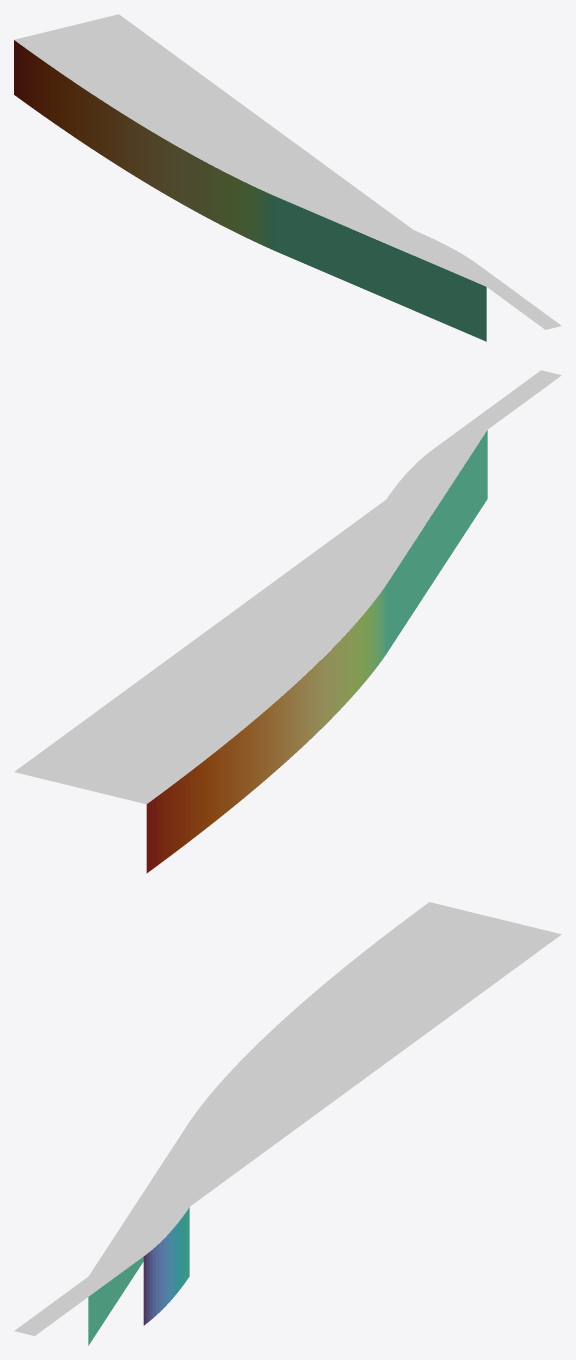
File: scramjet_n100_m14.glb
3 views of the same model, one above another, from view 1: azimuth 30°, elevation 25°; view 2: azimuth 150°, elevation 25°; view 3: azimuth 330°, elevation 25° (orthographic). The views are drawn at different scales.
Parts seen in each view (by area): view 1: Renderer Node; view 2: Renderer Node; view 3: Renderer Node.
Boxes of the visible parts, x1=… form: Renderer Node: x1=14, y1=14, x2=561, y2=341; Renderer Node: x1=14, y1=370, x2=561, y2=873; Renderer Node: x1=14, y1=902, x2=561, y2=1345.
Size of the model in its own units: 1.12 by 0.5006 by 7.1.
